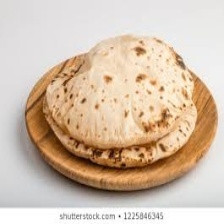roti: (41, 34, 196, 170)
